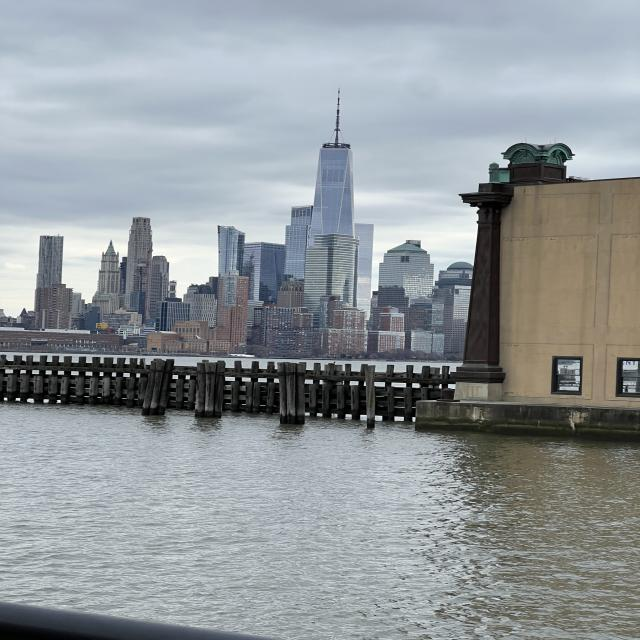WTC: (310, 87, 355, 234)
